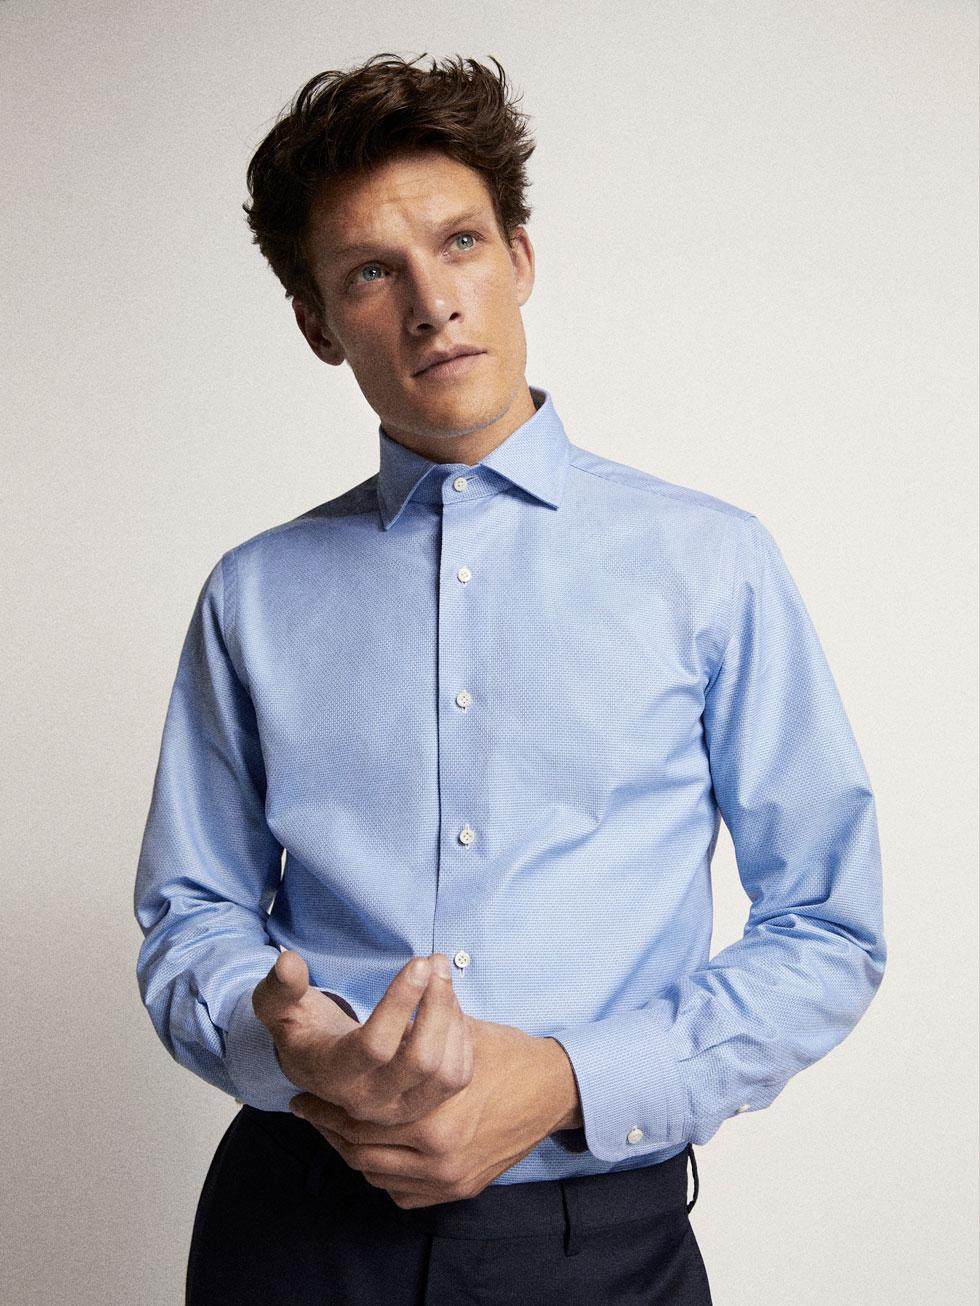teeshirt: (129, 393, 927, 1187)
